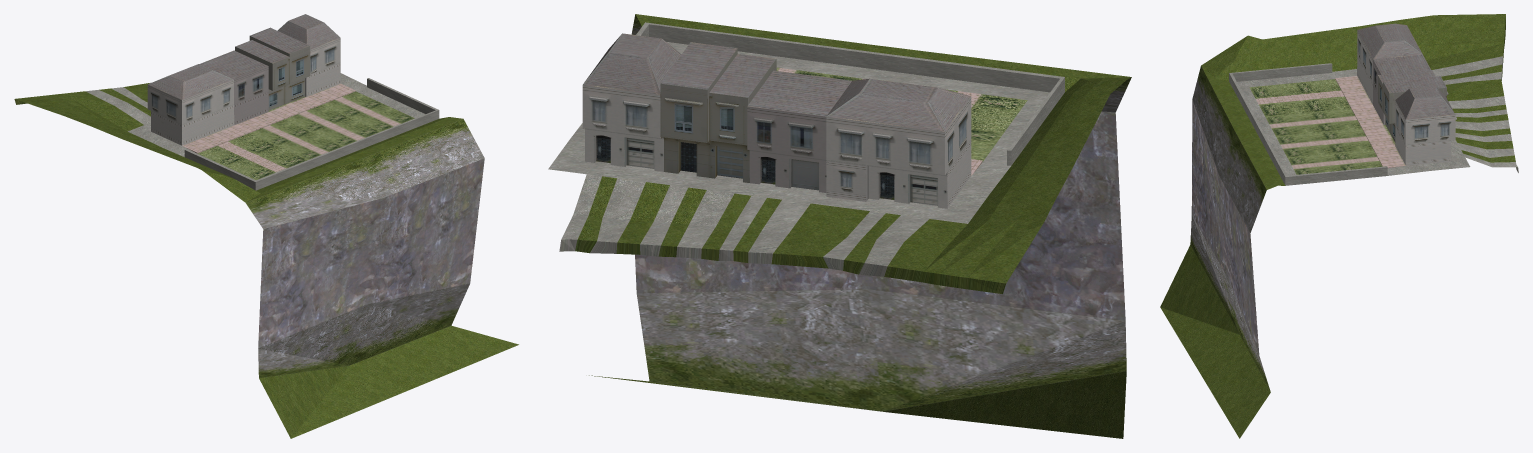
Rendered from sfw_boxwest08.obj.
3 renders of one model, left to right at view 1: azimuth 30°, elevation 25°; view 2: azimuth 150°, elevation 25°; view 3: azimuth 270°, elevation 25°, orthographic. The views are drawn at different scales.
Visible parts, largest first — view 1: sfw_boxwest08; view 2: sfw_boxwest08; view 3: sfw_boxwest08.
Boxes of the visible parts, bbox=[...] form: sfw_boxwest08: bbox=[14, 14, 518, 438]; sfw_boxwest08: bbox=[548, 14, 1131, 438]; sfw_boxwest08: bbox=[1160, 14, 1518, 438].
Size of the model in its own units: 61.13 by 44.64 by 50.55.
Materials: 12 (12 with a texture image).
